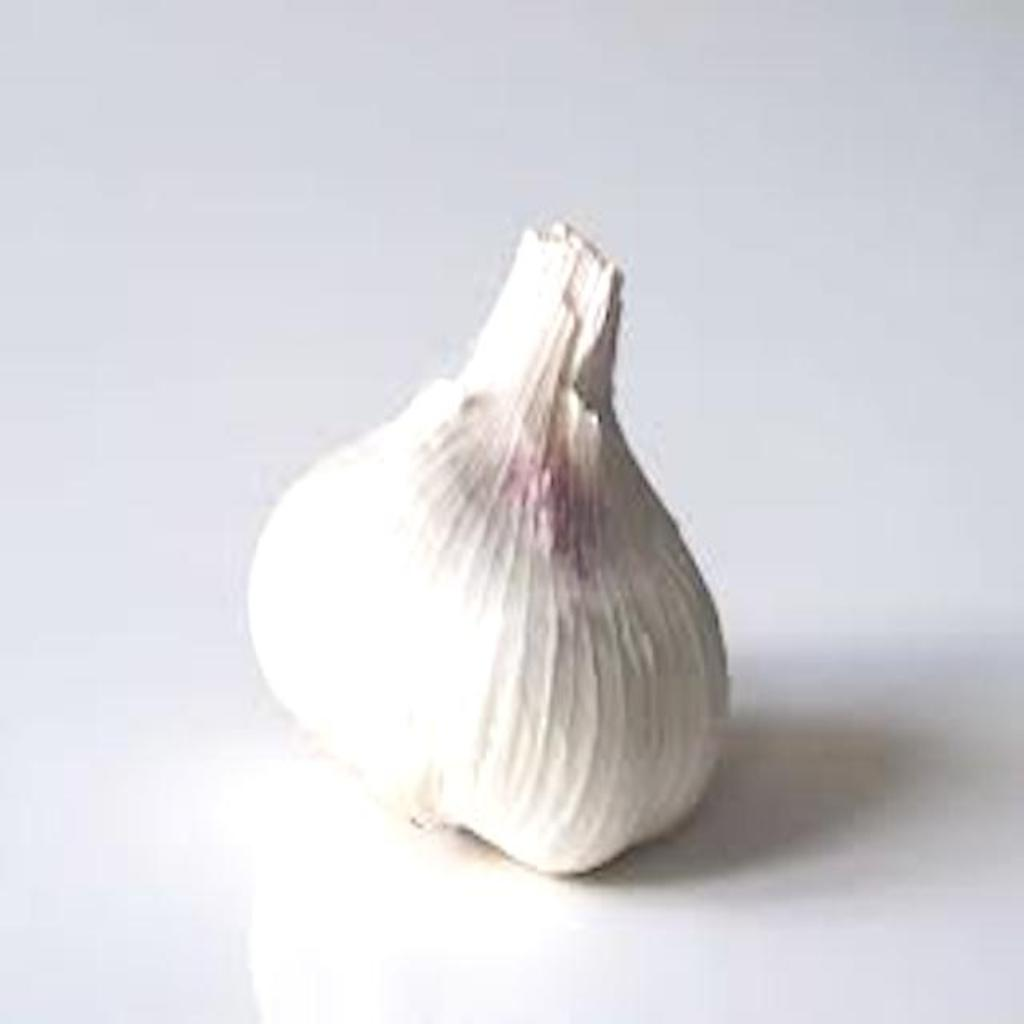garlic: (248, 222, 728, 871)
